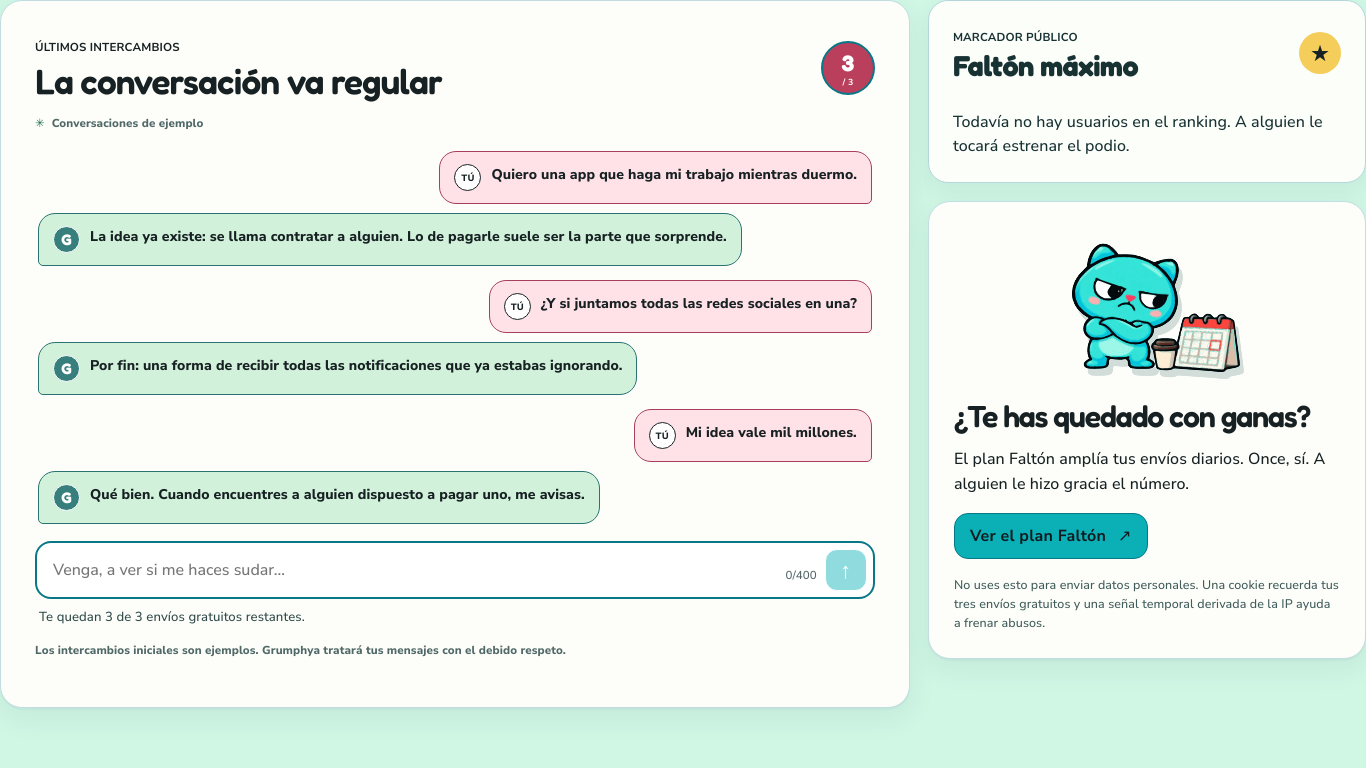
Roast › shows the reply failure dialog and keeps the draft for retry
Type "Una app que cobra por mis ideas" into the field named "tu insulto" at (410, 570), box [43, 549, 777, 591]
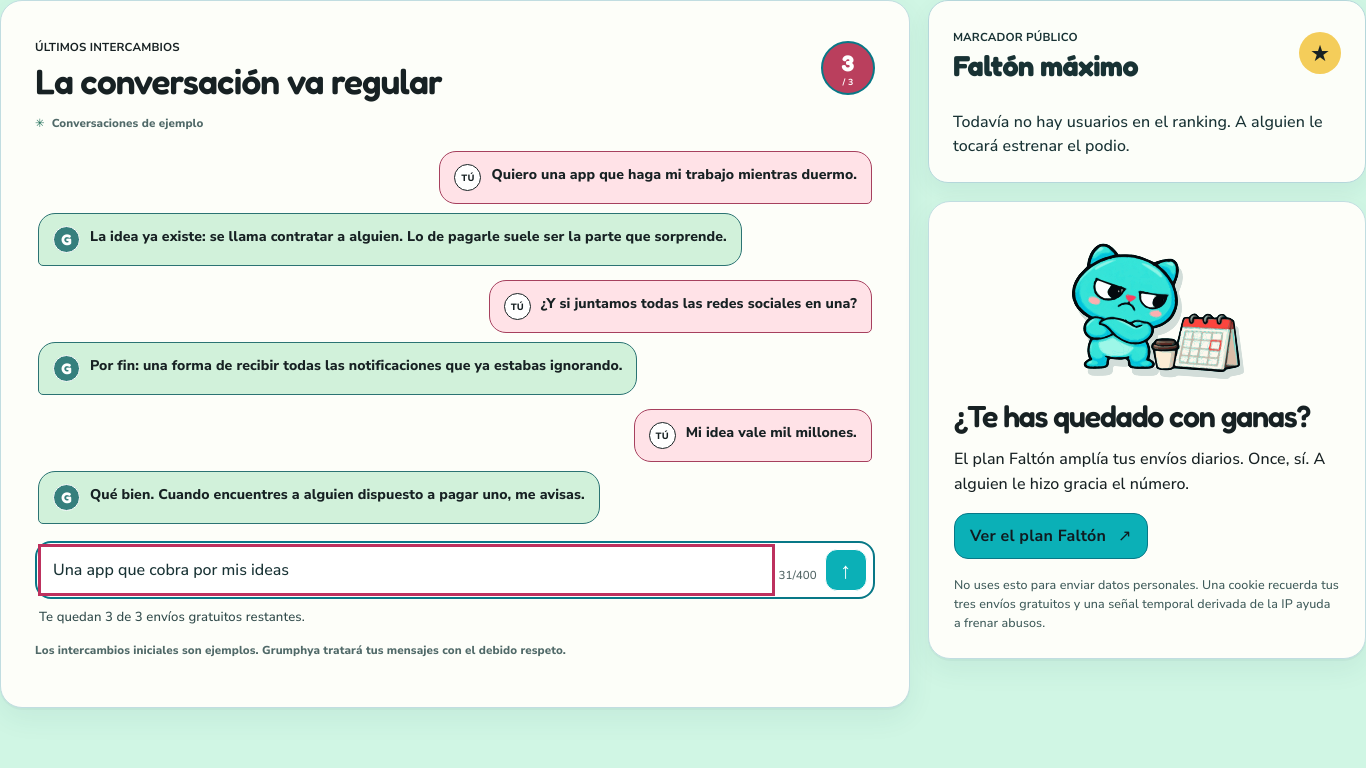
Click the button named "enviar insulto" at (846, 570), box [825, 549, 867, 591]
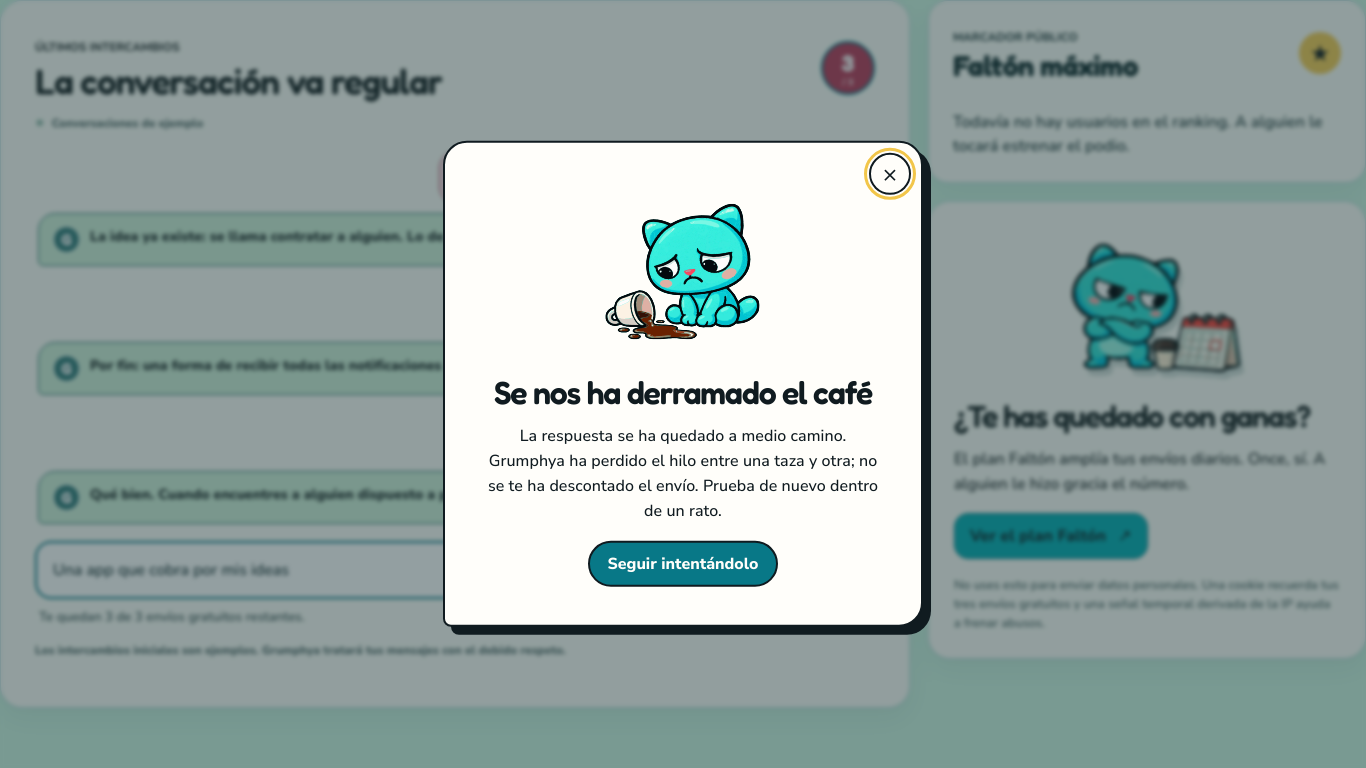
Expected: the dialog "Se nos ha derramado el café" shows "no se te ha descontado el envío", [488, 425, 878, 521]
Click the button "Seguir intentándolo" at (683, 564), box [588, 541, 778, 587]
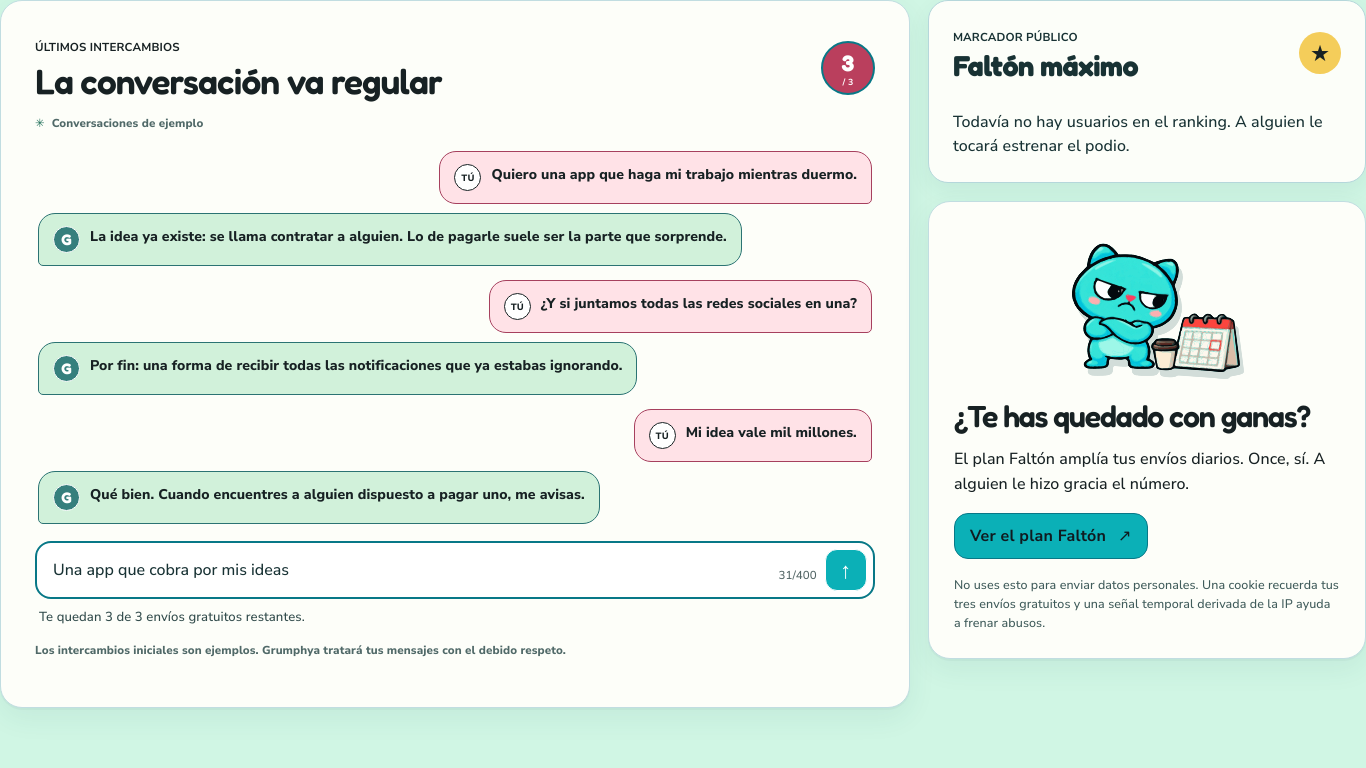
Expected: the heading "Se nos ha derramado el café" is gone
